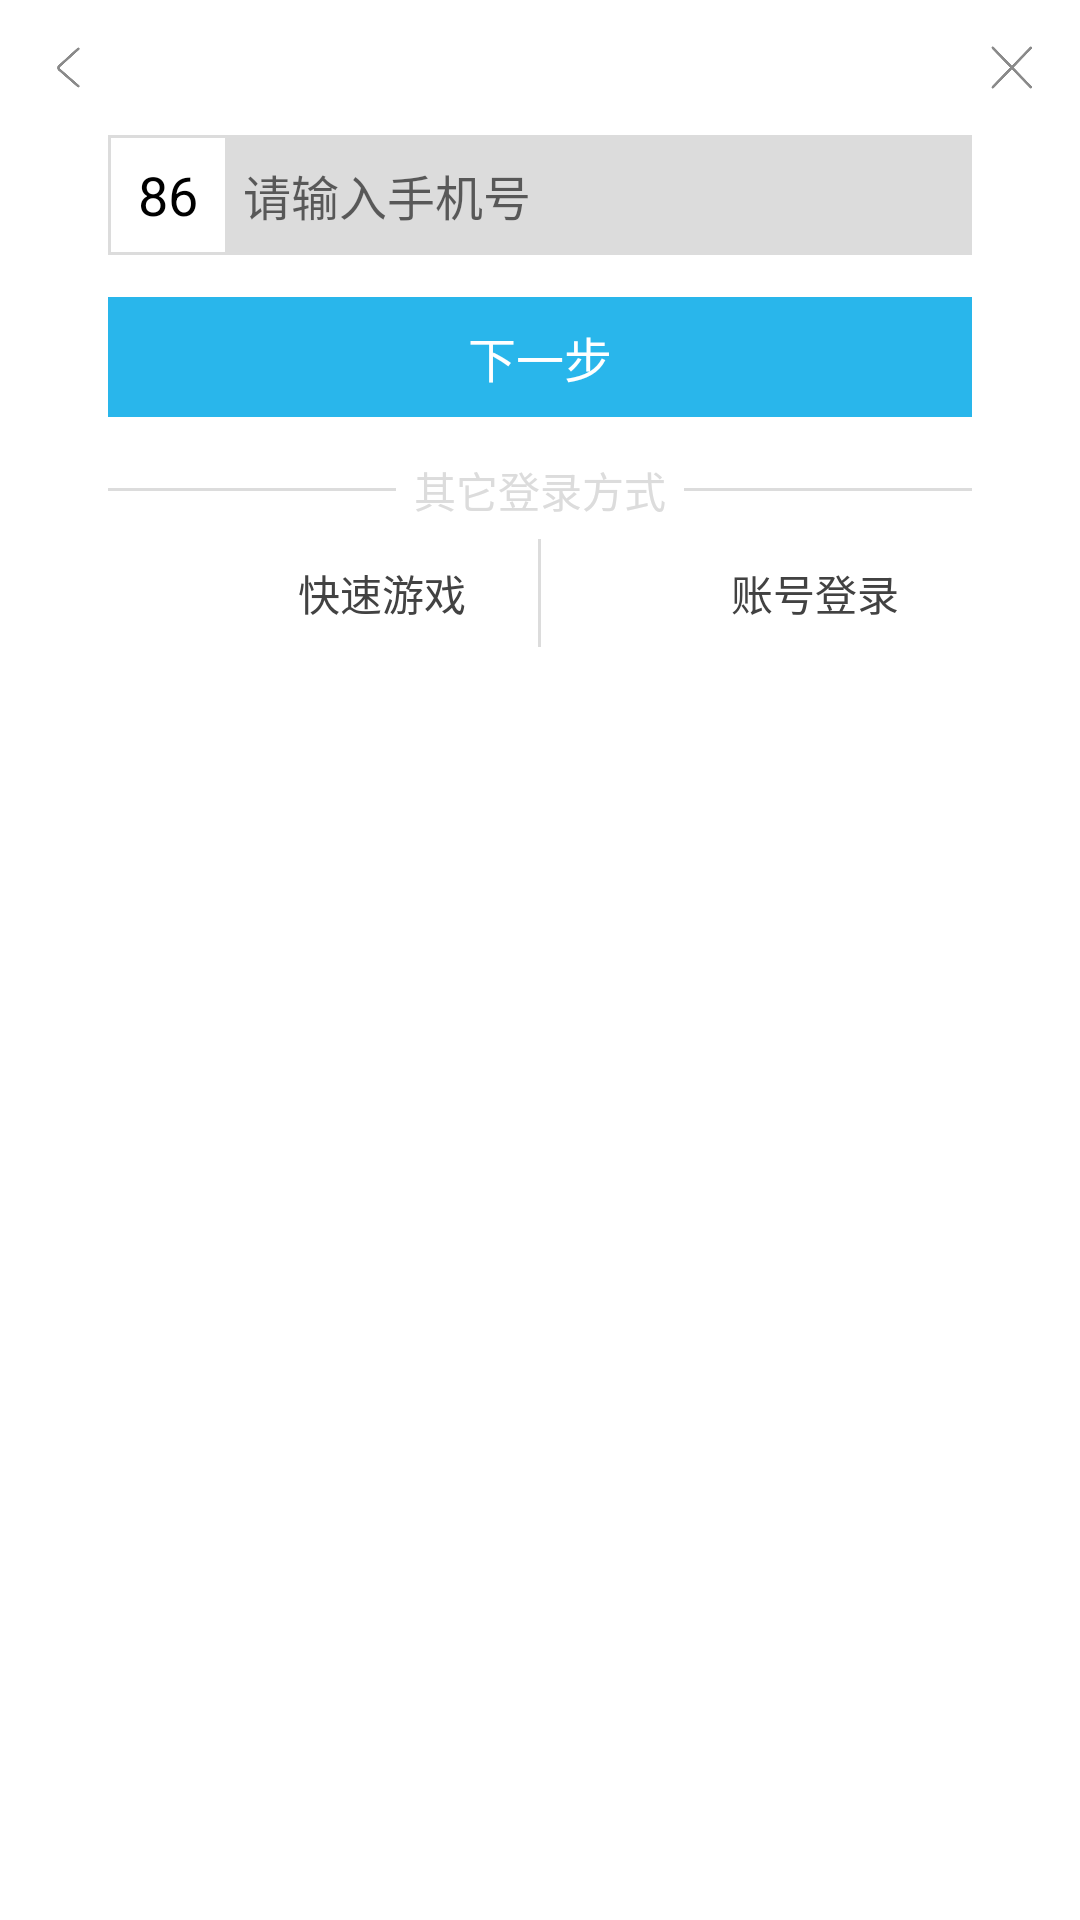

Where to tap for icons on this 1080 x 1920 app screen, as [x,y]:
关闭: [1011,67]
返回: [68,67]
